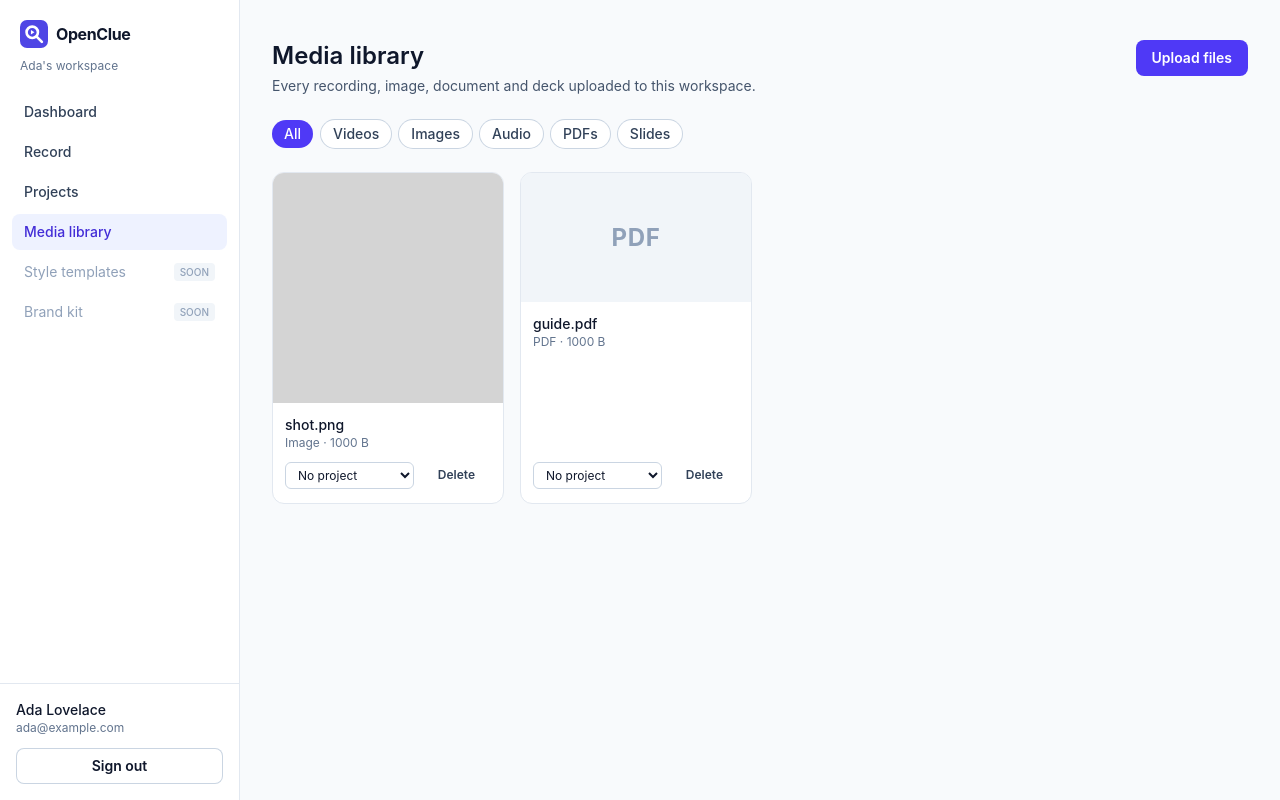
Scenario: MediaLibraryPage › filters by type, moves files into projects and deletes them
Check: the text "shot.png" is shown, box top-left (285, 416), bottom-right (344, 433)
Click the button "PDFs": [580, 134] box top-left (551, 120), bottom-right (610, 148)
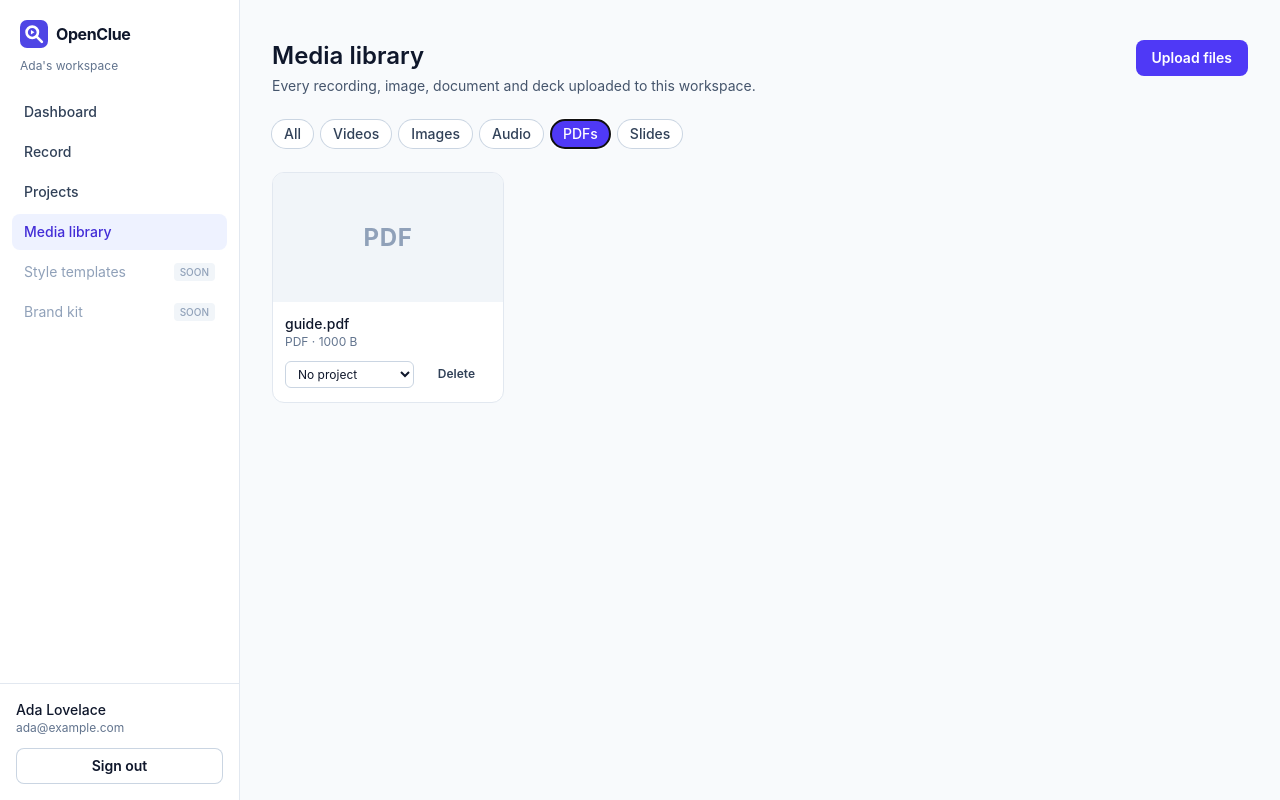
Check: the text "shot.png" is gone
Select "Launch" in the dropdown named "Project for guide.pdf": [349, 374] box top-left (285, 361), bottom-right (414, 388)
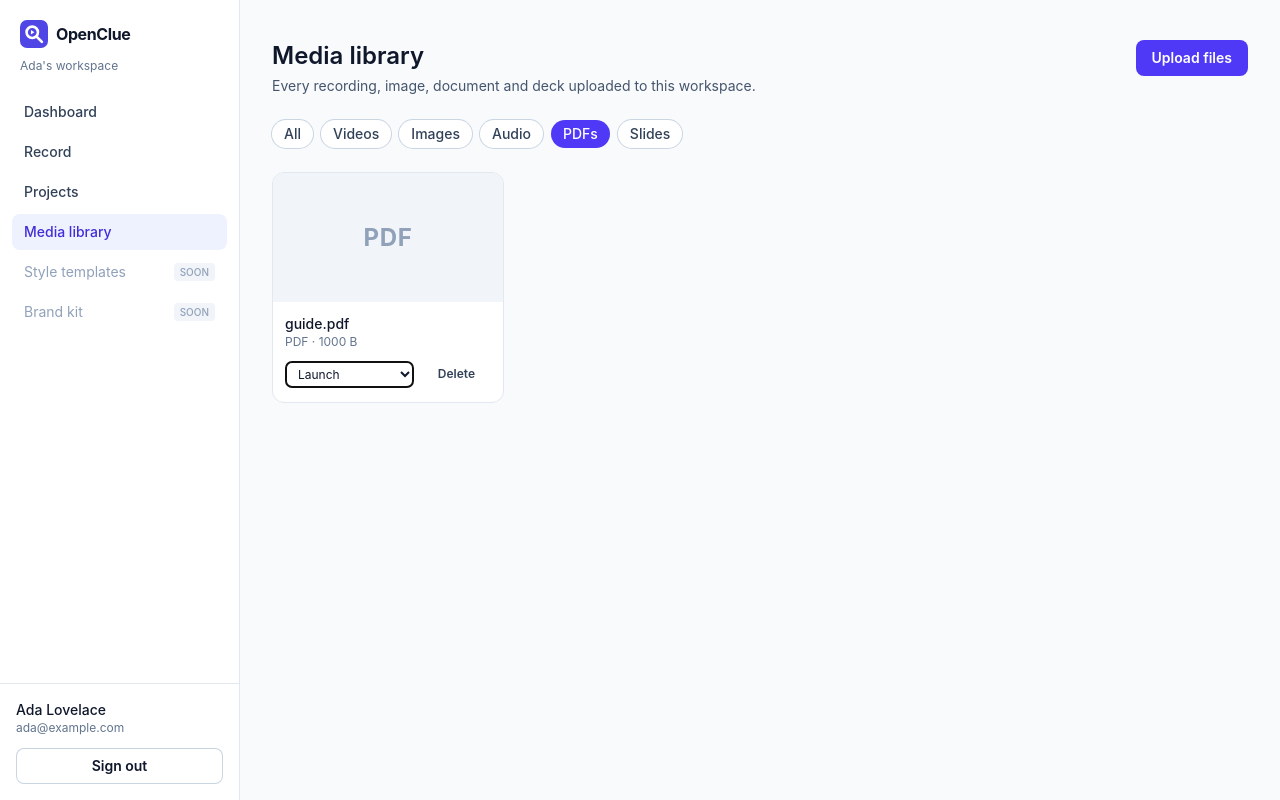
Click the button "Delete": [456, 374] box top-left (422, 358), bottom-right (491, 390)
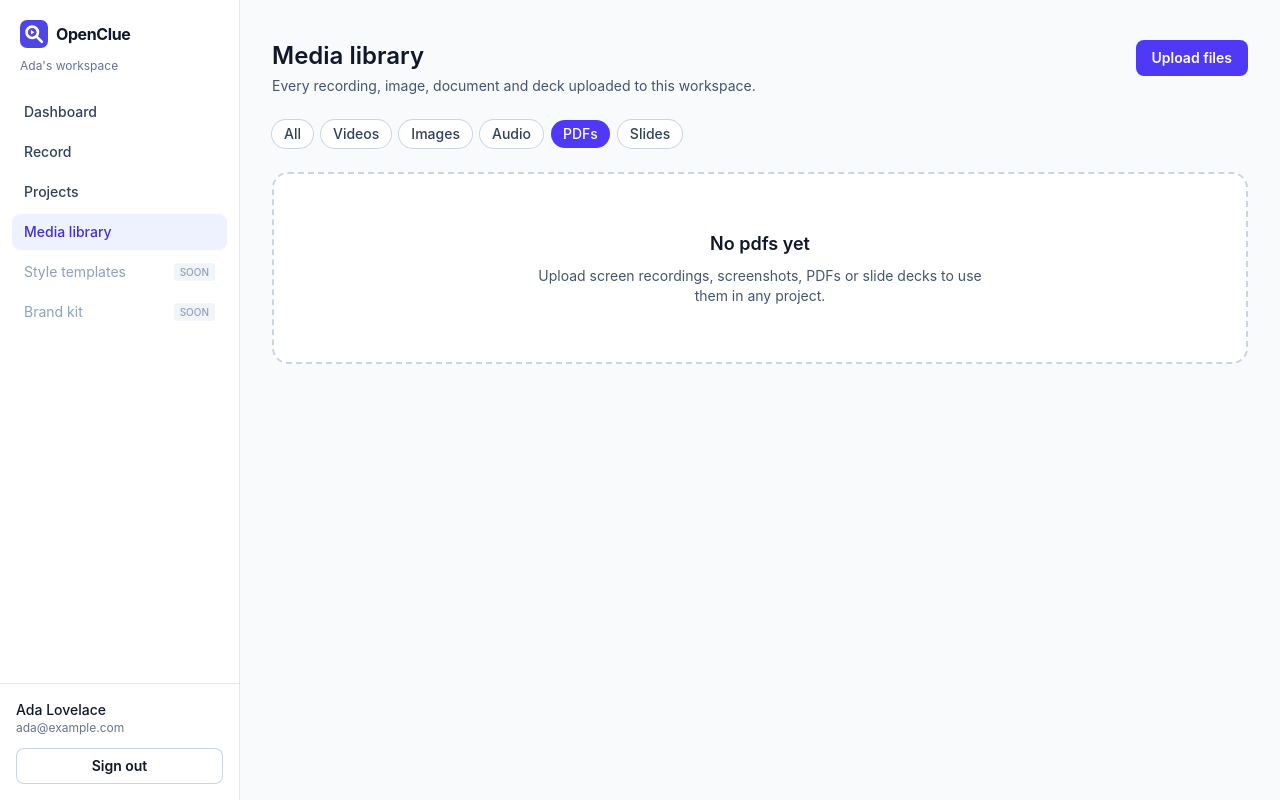
Check: the heading "No pdfs yet" is shown, box top-left (710, 230), bottom-right (810, 258)
